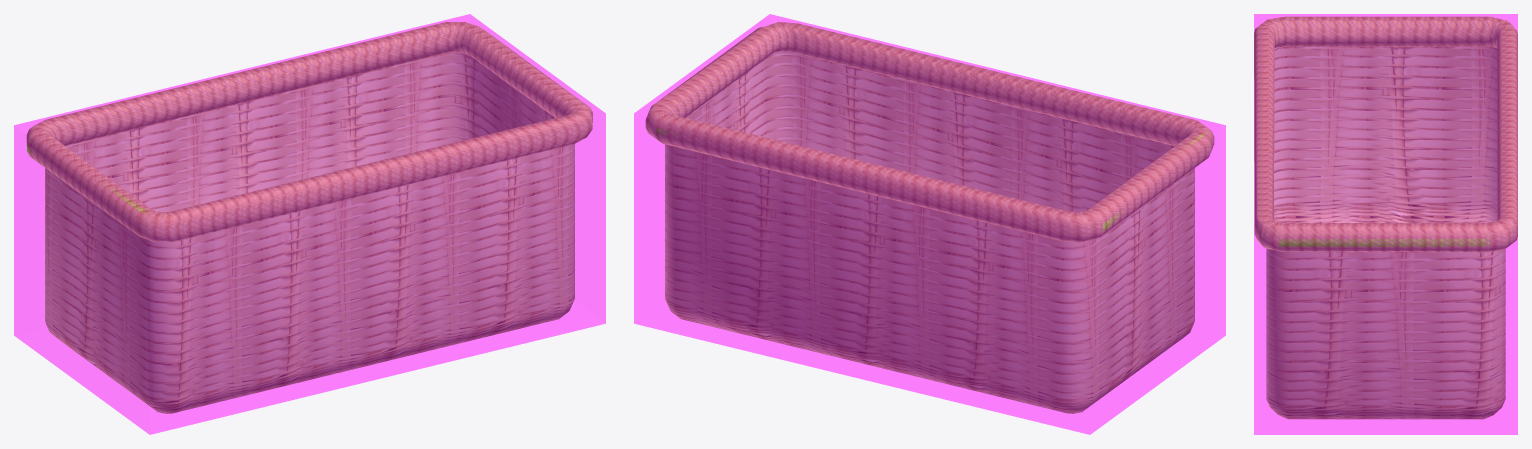
Rendered from fruitbasket_A.fbx.
3 views of the same model, side by side, from view 1: azimuth 30°, elevation 25°; view 2: azimuth 150°, elevation 25°; view 3: azimuth 270°, elevation 25° (orthographic). The views are drawn at different scales.
Visible parts, largest first — view 1: boundingbox, fruitbasket_A; view 2: boundingbox, fruitbasket_A; view 3: boundingbox, fruitbasket_A.
Boxes of the visible parts, <box> form: boundingbox: <box>14,14,605,434</box>; fruitbasket_A: <box>26,22,592,413</box>; boundingbox: <box>634,14,1225,434</box>; fruitbasket_A: <box>645,22,1214,413</box>; boundingbox: <box>1254,14,1517,434</box>; fruitbasket_A: <box>1254,16,1517,419</box>.
Bounding box in the file's own units: 21.38 × 9.42 × 11.02.
Materials: 3 (2 with a texture image).
